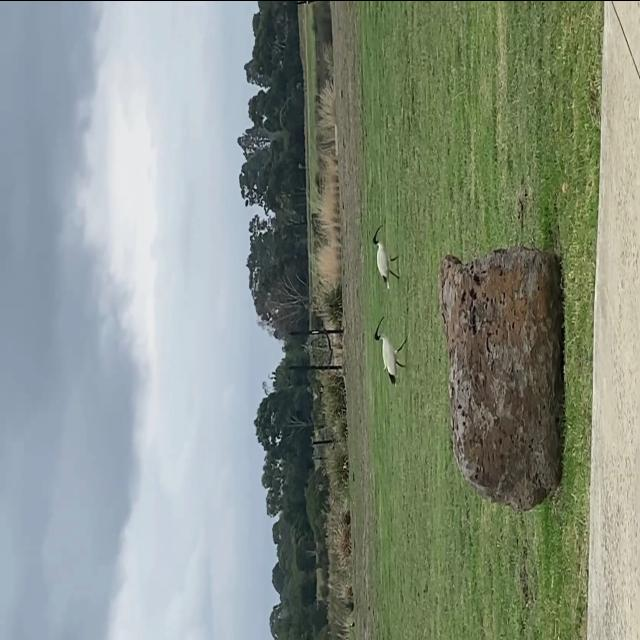Birds-Ibis: (370, 312, 411, 387), (369, 220, 401, 292)
